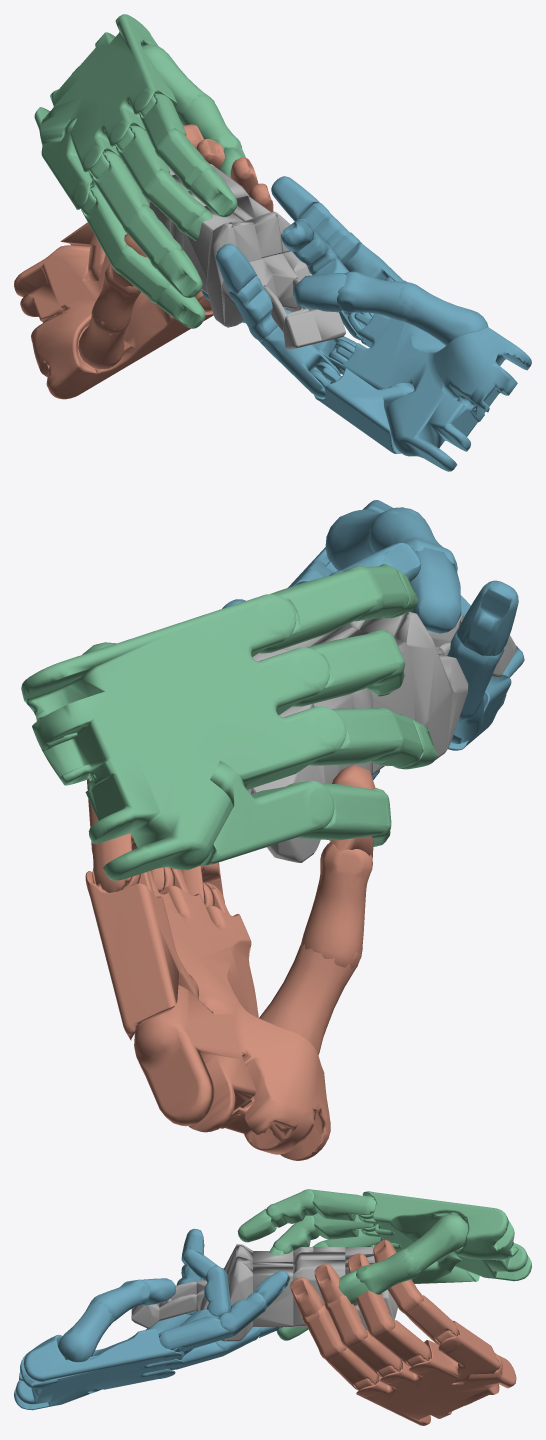
3 views of the same model, one above another, from view 1: azimuth 30°, elevation 25°; view 2: azimuth 150°, elevation 25°; view 3: azimuth 270°, elevation 25° (orthographic). The views are drawn at different scales.
Size of the model in its own units: 0.1526 by 0.1999 by 0.3682.
